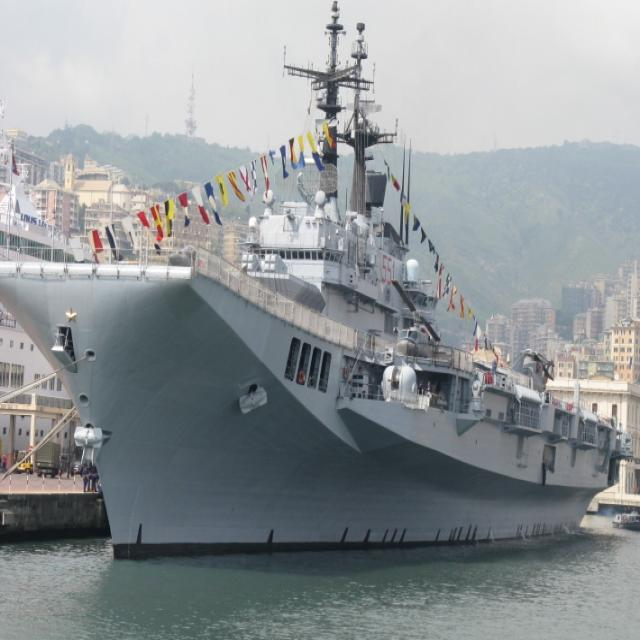Portanaves: (1, 1, 628, 565)
